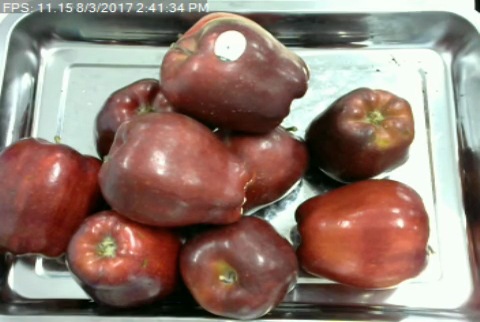Apple: (95, 108, 256, 230), (158, 9, 311, 136), (291, 176, 435, 291), (174, 211, 302, 322), (0, 136, 105, 261), (64, 207, 182, 313), (302, 85, 417, 186), (96, 75, 184, 160)
